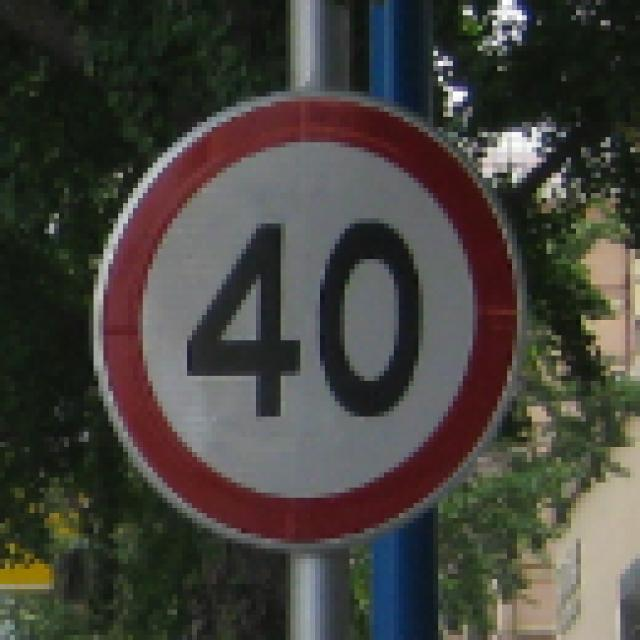Speed: (89, 92, 526, 551)
